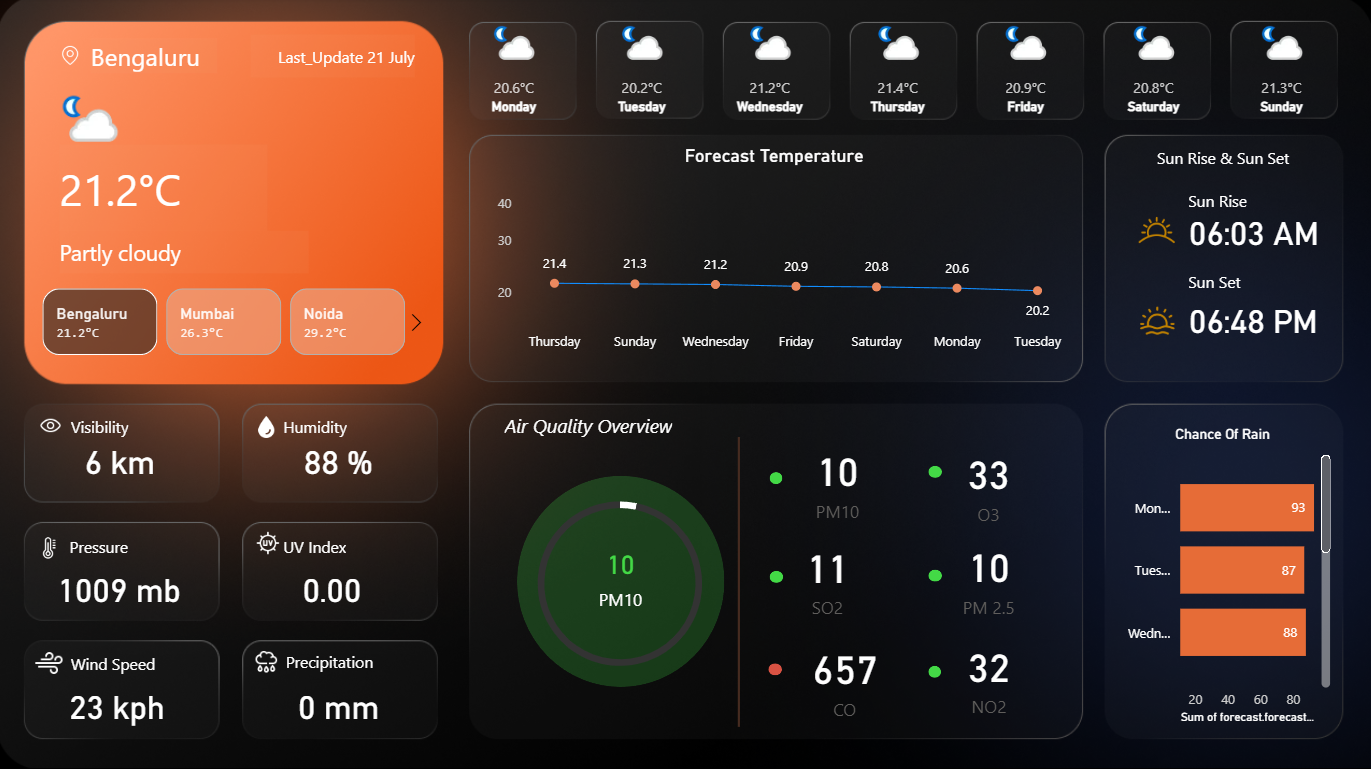

Layout of this report page (visuals, bound fields, positions):
{"tool":"powerbi","page":{"name":"Page 1","canvas":[1280,720],"ordinal":0},"visuals":[{"type":"shape","box":[483.7,445.4,193,196.5],"z":0},{"type":"advancedSlicerVisual","fields":{"Values":["location.location.name"]},"box":[17.1,265.7,388.6,72.9],"z":1000},{"type":"shape","box":[57.6,136.9,193.3,80.5],"z":2000},{"type":"shape","box":[57.6,217.3,231.7,39.6],"z":3000},{"type":"shape","box":[87.5,38.8,117.5,32.5],"z":4000},{"type":"shape","box":[236.2,35,152.5,40],"z":5000},{"type":"image","box":[49.2,40.8,38.4,27.6],"z":6000},{"type":"cardVisual","fields":{"Data":["Min(current.current.condition.icon)"]},"box":[37.2,70.8,128.5,80.5],"z":7000},{"type":"image","box":[31.2,383,37.2,32.4],"z":8000},{"type":"image","box":[235.3,384.2,31.2,32.4],"z":9000},{"type":"image","box":[28.8,497.5,38.8,30],"z":10000},{"type":"image","box":[236.5,489.9,32.4,37.2],"z":11000},{"type":"image","box":[1050,189.5,58.1,54.7],"z":12000},{"type":"image","box":[28.8,601.6,38.4,37.2],"z":13000},{"type":"image","box":[232.9,601.6,36,34.8],"z":14000},{"type":"image","box":[1057,280.2,44.2,41.9],"z":15000},{"type":"shape","box":[68.8,388.8,120,23.8],"z":16000},{"type":"shape","box":[268.8,605,120,27.5],"z":17000},{"type":"shape","box":[68.8,606.2,120,27.5],"z":18000},{"type":"shape","box":[266.2,497.5,120,27.5],"z":19000},{"type":"shape","box":[266.2,388.8,120,22.5],"z":20000},{"type":"shape","box":[67.5,500,120,23.8],"z":21000},{"type":"card","fields":{"Values":["_measure.Visibility_km"]},"box":[50,405,128.8,53.8],"z":22000},{"type":"card","fields":{"Values":["_measure.wind_speed"]},"box":[52.5,632.5,118.8,53.8],"z":23000},{"type":"card","fields":{"Values":["_measure.pressure_mb"]},"box":[50,523.8,127.5,53.8],"z":24000},{"type":"card","fields":{"Values":["Sum(current.current.uv)"]},"box":[268.8,523.8,86.2,53.8],"z":25000},{"type":"card","fields":{"Values":["_measure.Humidity"]},"box":[266.2,405,102.5,53.8],"z":26000},{"type":"card","fields":{"Values":["_measure.preci_mm"]},"box":[260,632.5,115,53.8],"z":27000},{"type":"advancedSlicerVisual","fields":{"Values":["forecast_day.day_name"]},"box":[431.9,17.3,813.5,109.4],"z":28000},{"type":"lineChart","title":"Forecast Temperature","fields":{"Y":["Sum(forecast_day.forecast.forecastday.day.avgtemp_c)"],"Category":["forecast_day.day_name"]},"box":[443.5,136.8,560.1,201.6],"z":29000},{"type":"shape","box":[1079.1,137.2,158.1,25.6],"z":30000},{"type":"card","fields":{"Values":["Min(forecast_day.SunSET_date)"]},"box":[1100,277.9,137.2,44.2],"z":31000},{"type":"card","fields":{"Values":["Min(forecast_day.Sunrises_date)"]},"box":[1101.2,196.5,136,43],"z":32000},{"type":"shape","box":[1108.1,176.7,158.1,25.6],"z":33000},{"type":"shape","box":[1108.1,252.3,158.1,25.6],"z":34000},{"type":"clusteredBarChart","title":"Chance Of Rain","fields":{"Y":["Sum(forecast_day.forecast.forecastday.day.daily_chance_of_rain)"],"Category":["forecast_day.day_name"]},"box":[1034.9,398.8,210.5,282.6],"z":35000},{"type":"card","fields":{"Values":["Sum(current.current.air_quality.pm10)"]},"box":[731.4,398.6,101.4,102.9],"z":36000},{"type":"card","fields":{"Values":["Sum(current.current.air_quality.co)"]},"box":[711.4,580,154.3,107.1],"z":37000},{"type":"card","fields":{"Values":["Sum(current.current.air_quality.pm2_5)"]},"box":[866.3,484.9,112.8,108.1],"z":38000},{"type":"card","fields":{"Values":["Sum(current.current.air_quality.o3)"]},"box":[866.3,401.2,112.8,103.5],"z":39000},{"type":"card","fields":{"Values":["Sum(current.current.air_quality.so2)"]},"box":[707.1,488.6,131.4,102.9],"z":40000},{"type":"card","fields":{"Values":["Sum(current.current.air_quality.no2)"]},"box":[866,577.3,113.3,108],"z":41000},{"type":"shape","box":[718.6,441.4,12.1,11.4],"z":42000},{"type":"shape","box":[865.7,532.9,12.9,11.4],"z":43000},{"type":"shape","box":[865.7,435.7,12.9,11.4],"z":44000},{"type":"shape","box":[717.1,620,12.9,11.4],"z":45000},{"type":"shape","box":[718.6,534.3,12.9,11.4],"z":46000},{"type":"shape","box":[866.7,622,12,11.3],"z":47000},{"type":"shape","box":[639.5,409.3,101.2,269.8],"z":48000},{"type":"shape","box":[472.5,382.5,245,32.5],"z":49000},{"type":"card","fields":{"Values":["Sum(current.current.air_quality.pm10)"]},"box":[529.1,487.2,102.3,102.3],"z":50000},{"type":"donutChart","fields":{"Y":["Sum(current.current.air_quality.pm10)","_measure.Left_value_PM10"]},"box":[472.1,445.4,215.1,201.2],"z":51000}]}

Visuals, with their boxes in screenshot pixels (x1, y1, x2, y2), scaled from the page's 1280x720 canvas onto the 1371x769 screenshot:
shape: bbox=(518, 476, 725, 686)
advancedSlicerVisual - location.location.name: bbox=(18, 284, 435, 362)
shape: bbox=(62, 146, 269, 232)
shape: bbox=(62, 232, 310, 274)
shape: bbox=(94, 41, 220, 76)
shape: bbox=(253, 37, 416, 80)
image: bbox=(53, 44, 94, 73)
cardVisual - Min(current.current.condition.icon): bbox=(40, 76, 177, 162)
image: bbox=(33, 409, 73, 444)
image: bbox=(252, 410, 285, 445)
image: bbox=(31, 531, 72, 563)
image: bbox=(253, 523, 288, 563)
image: bbox=(1125, 202, 1187, 261)
image: bbox=(31, 643, 72, 682)
image: bbox=(249, 643, 288, 680)
image: bbox=(1132, 299, 1179, 344)
shape: bbox=(74, 415, 202, 441)
shape: bbox=(288, 646, 416, 676)
shape: bbox=(74, 647, 202, 677)
shape: bbox=(285, 531, 414, 561)
shape: bbox=(285, 415, 414, 439)
shape: bbox=(72, 534, 201, 559)
card - _measure.Visibility_km: bbox=(54, 433, 192, 490)
card - _measure.wind_speed: bbox=(56, 676, 183, 733)
card - _measure.pressure_mb: bbox=(54, 559, 190, 617)
card - Sum(current.current.uv): bbox=(288, 559, 380, 617)
card - _measure.Humidity: bbox=(285, 433, 395, 490)
card - _measure.preci_mm: bbox=(278, 676, 402, 733)
advancedSlicerVisual - forecast_day.day_name: bbox=(463, 18, 1334, 135)
"Forecast Temperature" lineChart: bbox=(475, 146, 1075, 361)
shape: bbox=(1156, 147, 1325, 174)
card - Min(forecast_day.SunSET_date): bbox=(1178, 297, 1325, 344)
card - Min(forecast_day.Sunrises_date): bbox=(1179, 210, 1325, 256)
shape: bbox=(1187, 189, 1356, 216)
shape: bbox=(1187, 269, 1356, 297)
"Chance Of Rain" clusteredBarChart: bbox=(1108, 426, 1334, 728)
card - Sum(current.current.air_quality.pm10): bbox=(783, 426, 892, 536)
card - Sum(current.current.air_quality.co): bbox=(762, 619, 927, 734)
card - Sum(current.current.air_quality.pm2_5): bbox=(928, 518, 1049, 633)
card - Sum(current.current.air_quality.o3): bbox=(928, 429, 1049, 539)
card - Sum(current.current.air_quality.so2): bbox=(757, 522, 898, 632)
card - Sum(current.current.air_quality.no2): bbox=(928, 617, 1049, 732)
shape: bbox=(770, 471, 783, 484)
shape: bbox=(927, 569, 941, 581)
shape: bbox=(927, 465, 941, 478)
shape: bbox=(768, 662, 782, 674)
shape: bbox=(770, 571, 784, 583)
shape: bbox=(928, 664, 941, 676)
shape: bbox=(685, 437, 793, 725)
shape: bbox=(506, 409, 769, 443)
card - Sum(current.current.air_quality.pm10): bbox=(567, 520, 676, 630)
donutChart - Sum(current.current.air_quality.pm10) x _measure.Left_value_PM10: bbox=(506, 476, 736, 691)
